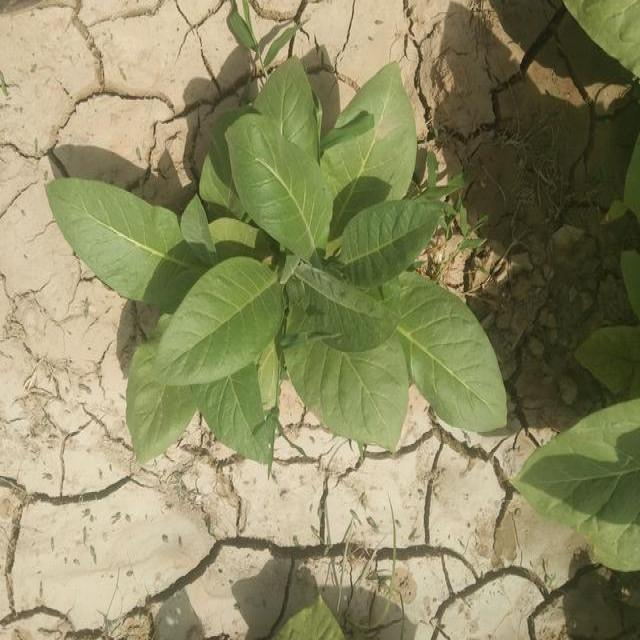crop: (242, 61, 434, 285), (295, 265, 503, 441), (59, 183, 274, 321), (128, 316, 280, 464)
